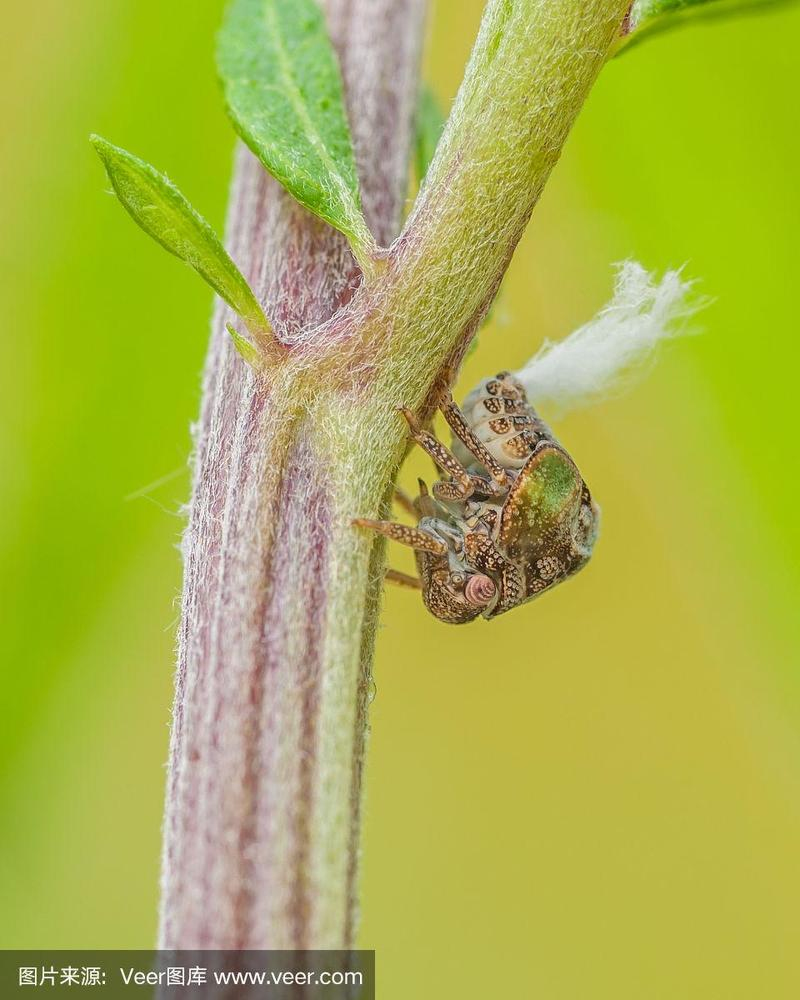Cicadellidae: (353, 375, 599, 624)
